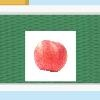raw: (33, 39, 68, 74)
